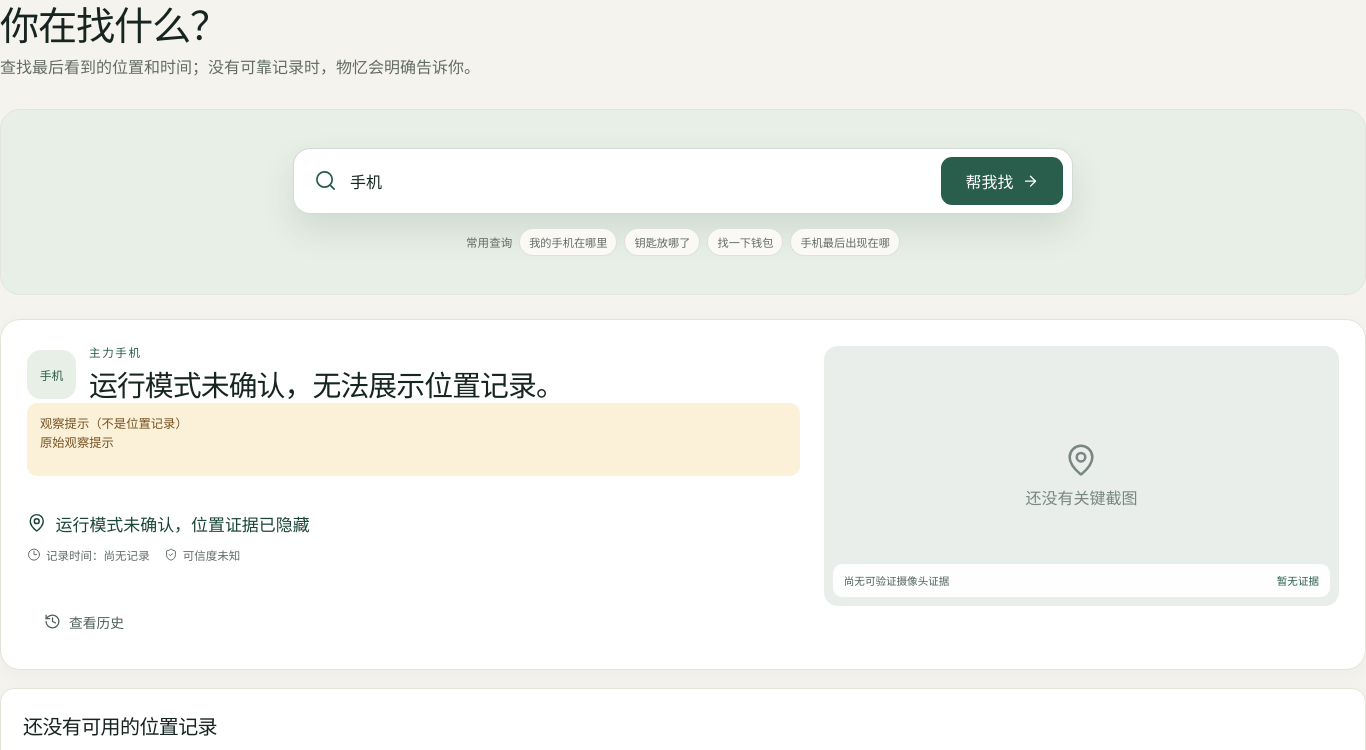
Test case: 搜索刷新Mock契约，不证明实物识别 › 自动GET更新现有结果，不重复POST搜索或覆盖正在编辑的输入；失败保留结果
Check: the text "原始观察提示" is shown, box 40,434 -> 114,451
Replace the text in the field named "寻找物品" with "正在输入钥匙" at (639, 181), box 337,157 -> 941,205
Wait 3000 ms
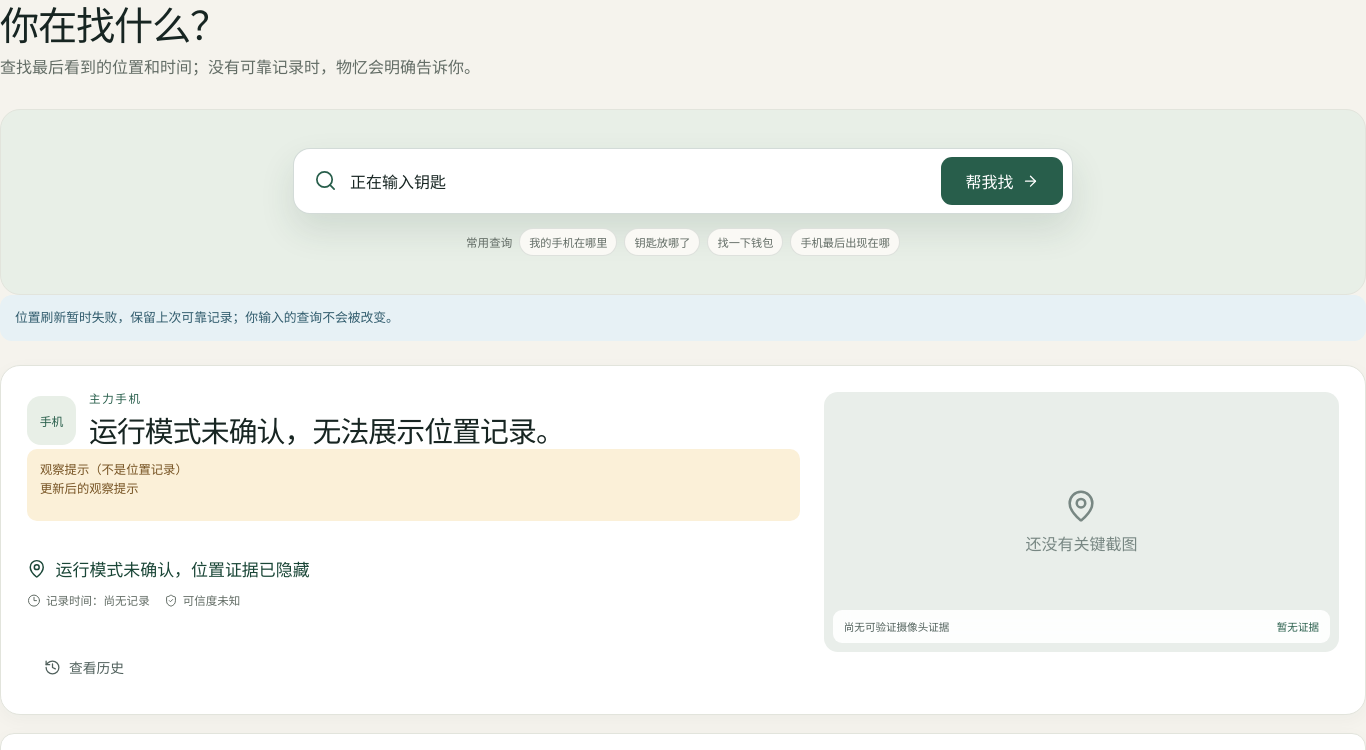
Check: the text "更新后的观察提示" is shown, box 40,480 -> 138,497
Check: the text "位置刷新暂时失败，保留上次可靠记录；你输入的查询不会被改变。" is shown, box 0,295 -> 1365,340
